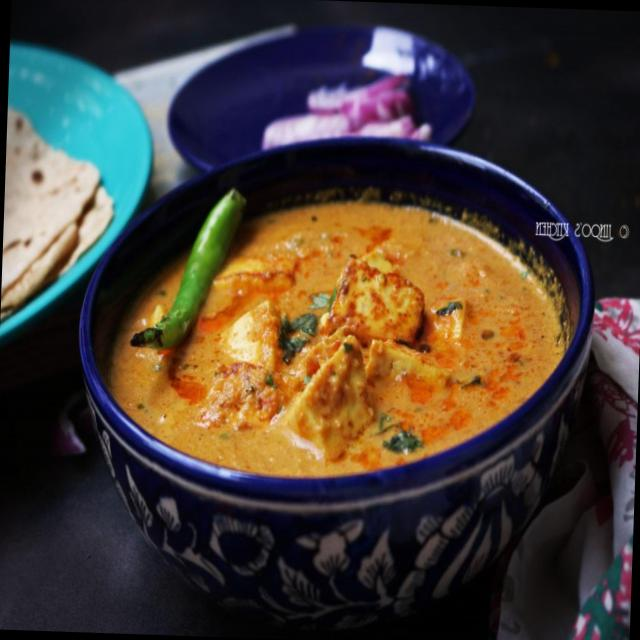roti: (1, 118, 70, 285)
